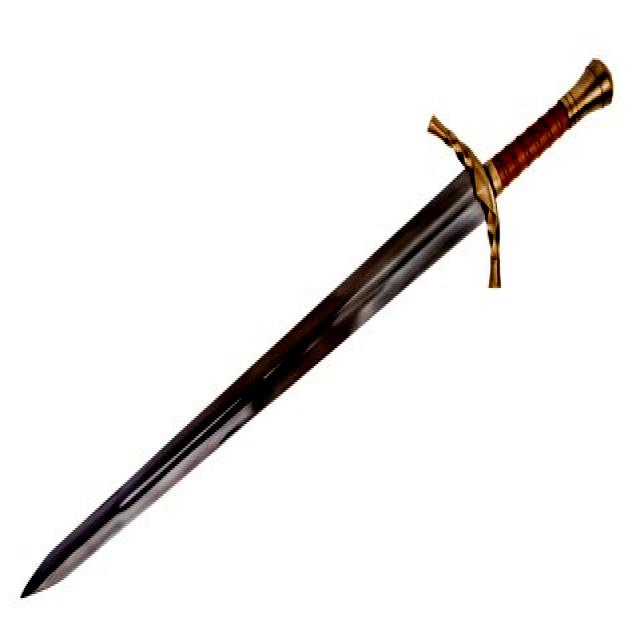long sword: (13, 55, 615, 604)
